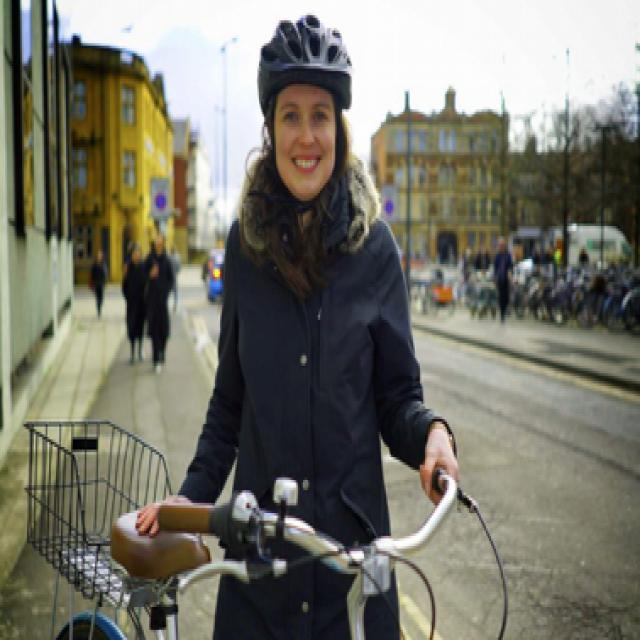Helmet: (240, 15, 371, 198)
